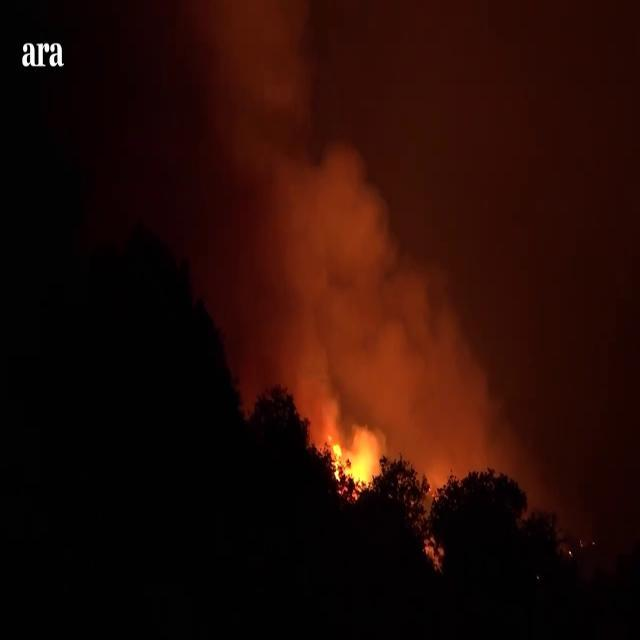Fire: (329, 433, 377, 501)
Smoke: (175, 0, 639, 486)
